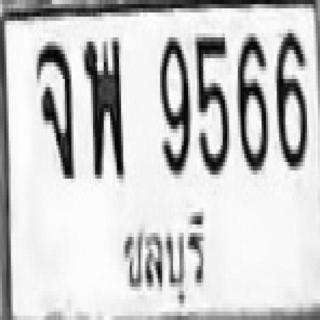A08: (34, 39, 74, 177)
A30: (82, 35, 123, 177)
N05: (194, 33, 227, 170)
N06: (274, 29, 307, 166), (236, 33, 268, 170)
N09: (158, 33, 188, 170)
P13: (120, 208, 215, 317)
